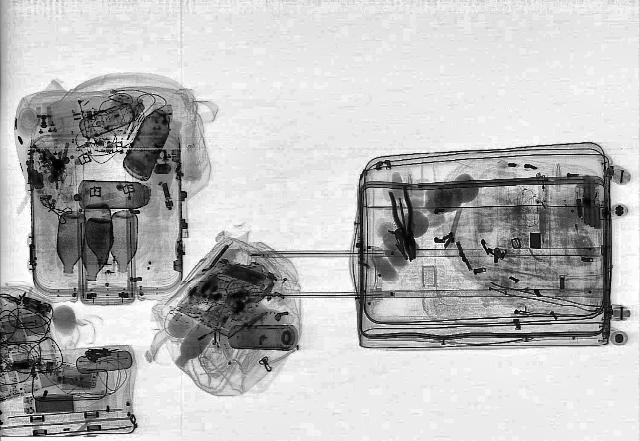Pliers: (386, 185, 424, 261)
